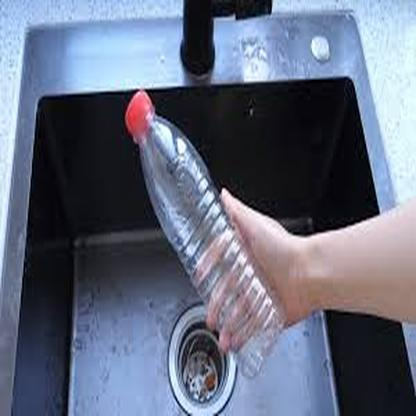plastic bottle: (123, 89, 289, 378)
